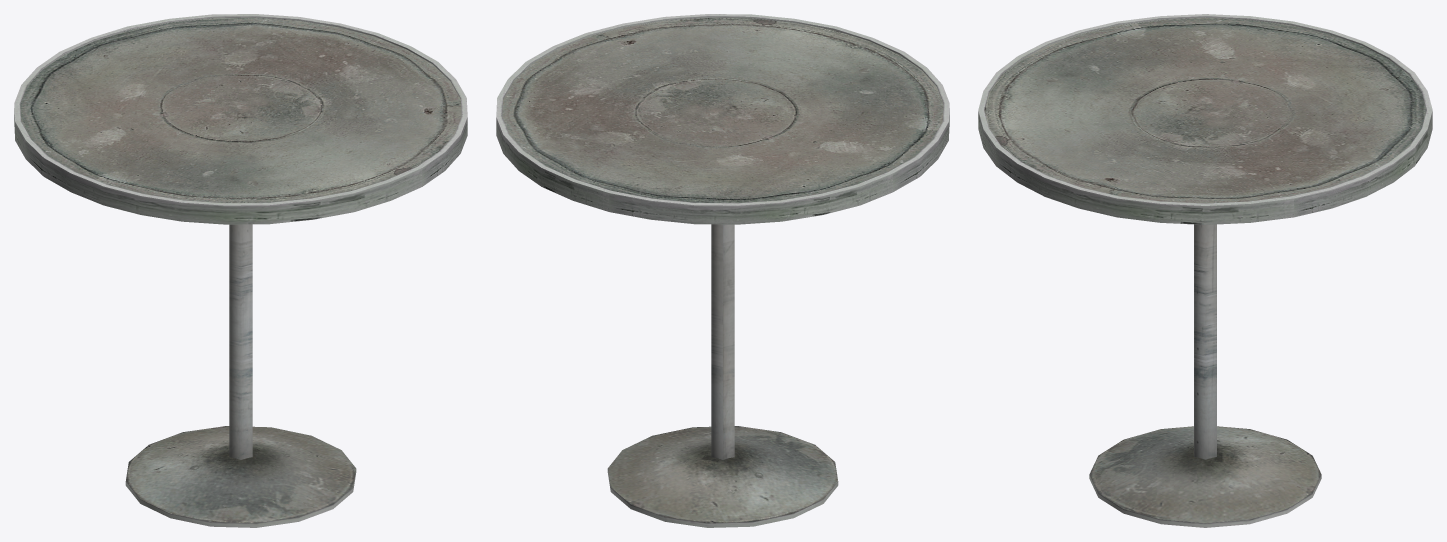
The model's file is Table.FBX.
The picture shows the model from 3 angles, left to right: view 1: azimuth 30°, elevation 25°; view 2: azimuth 150°, elevation 25°; view 3: azimuth 270°, elevation 25°; orthographic projection.
Visible parts, largest first — view 1: TableChair; view 2: TableChair; view 3: TableChair.
Part boxes in pixels (<box>): TableChair: <box>14,14,467,527</box>; TableChair: <box>496,14,949,527</box>; TableChair: <box>978,14,1432,527</box>.
Bounding box in the file's own units: 79.85 × 71.53 × 79.85.
Materials: 1 (1 with a texture image).
